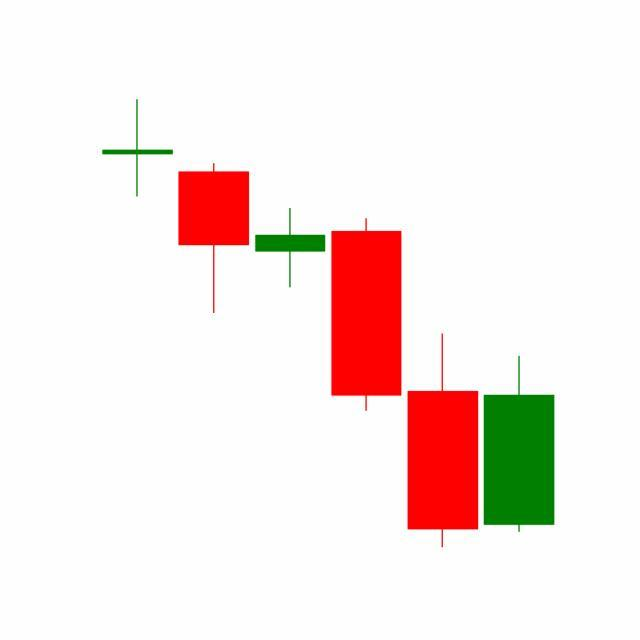Three Outside Up-Down: (252, 203, 482, 548)
